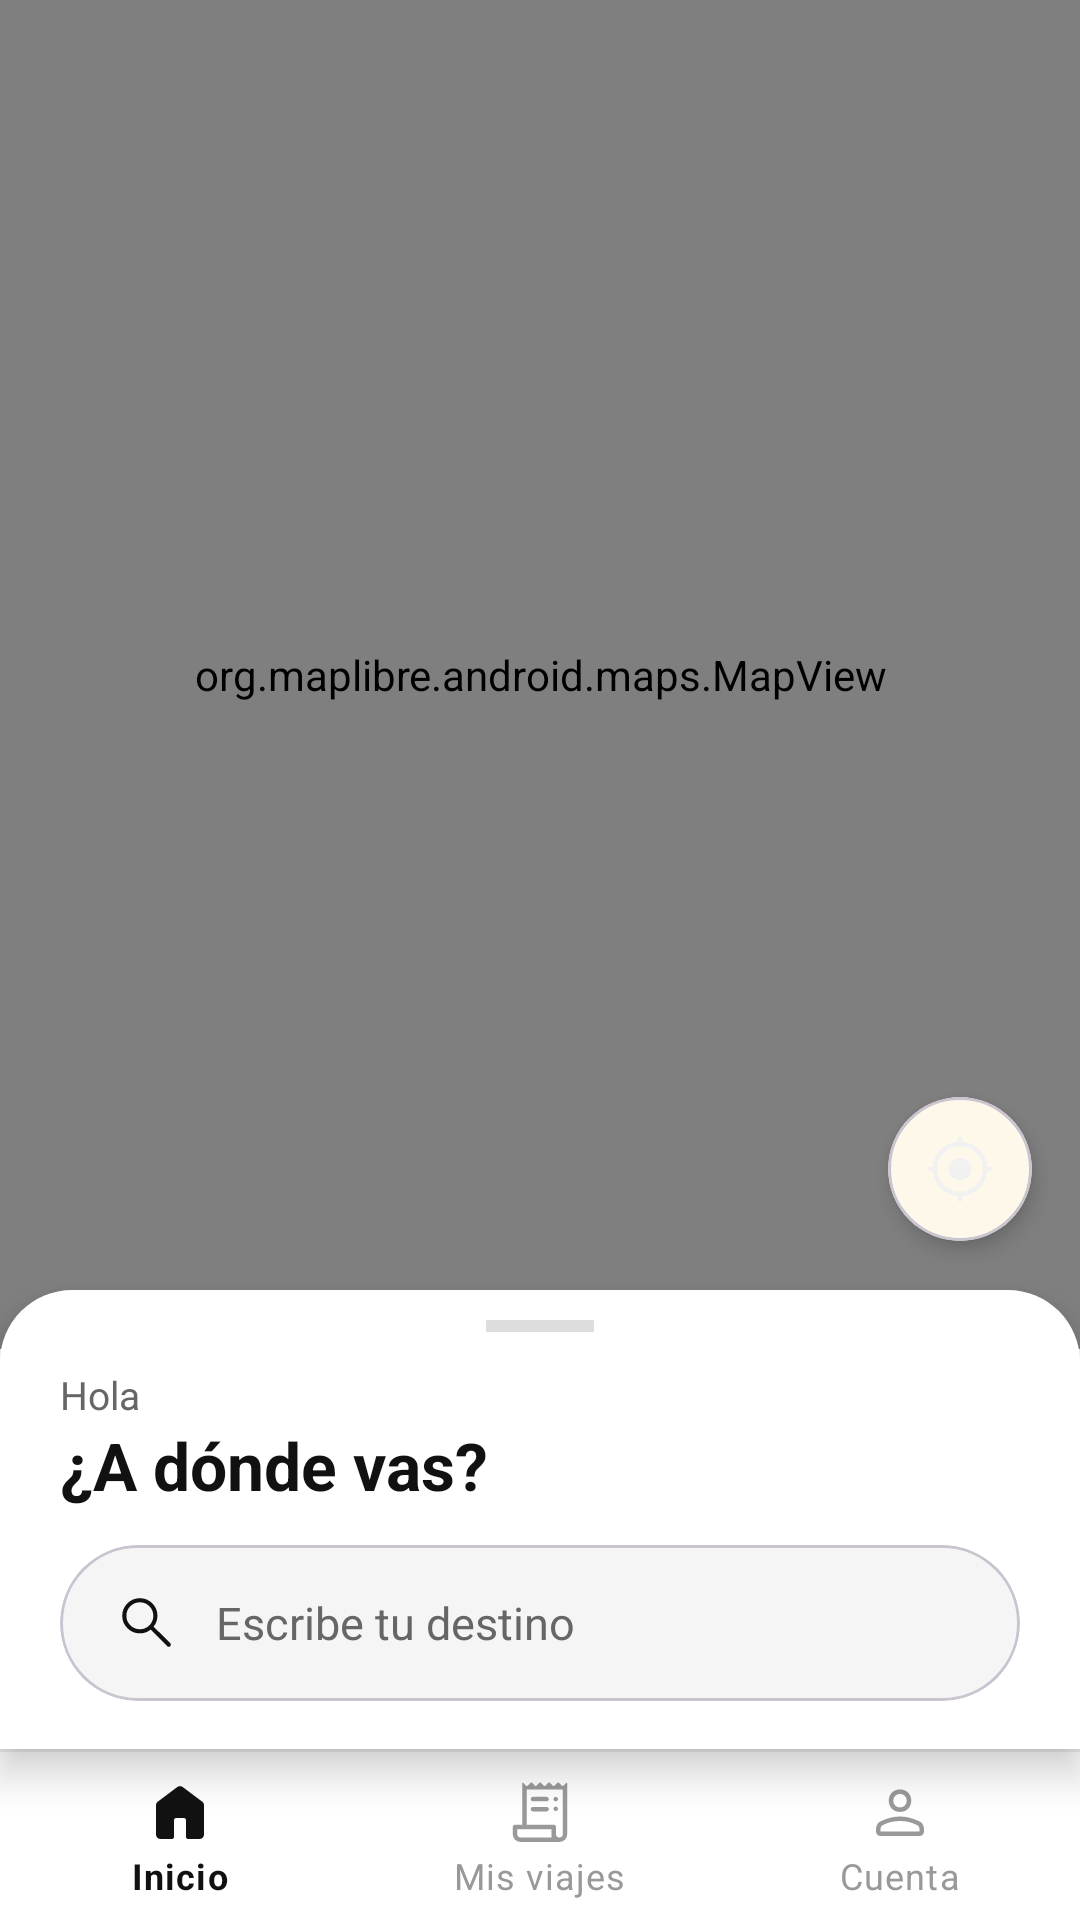

Icon click points for this 1080×1920 phone screenshot, format (x=x, y=y):
buscar: (x=146, y=1622)
